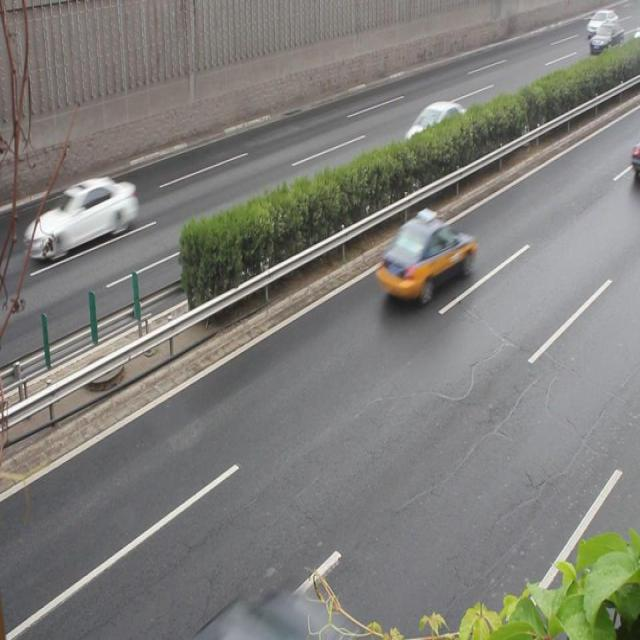car: (374, 212, 472, 302), (31, 176, 136, 259), (400, 100, 474, 164)
